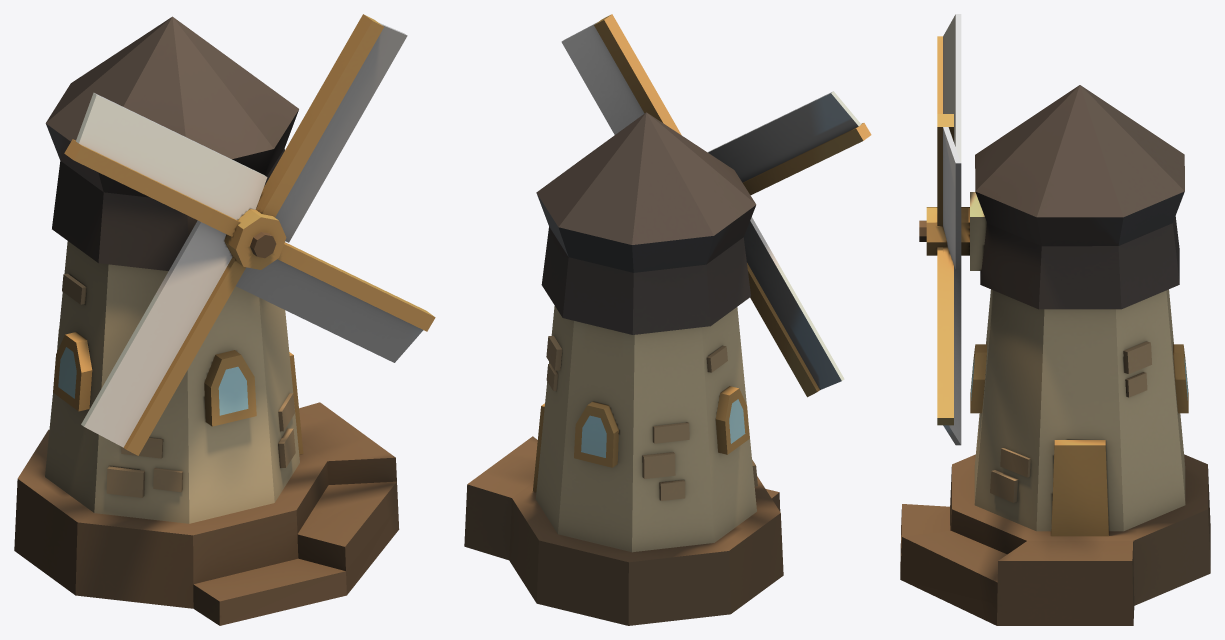
File: Windmill.glb
3 views of the same model, side by side, from view 1: azimuth 30°, elevation 25°; view 2: azimuth 150°, elevation 25°; view 3: azimuth 270°, elevation 25° (orthographic). The views are drawn at different scales.
Parts seen in each view (by area): view 1: node-0; view 2: node-0; view 3: node-0.
Part boxes in pixels (x1=…): node-0: x1=14, y1=14, x2=435, y2=625; node-0: x1=464, y1=14, x2=871, y2=625; node-0: x1=900, y1=14, x2=1210, y2=625.
Bounding box in the file's own units: 1.63 × 2.36 × 1.36.
1 material, 1 textured.
